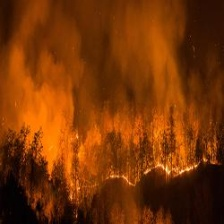fire: (103, 146, 215, 187)
